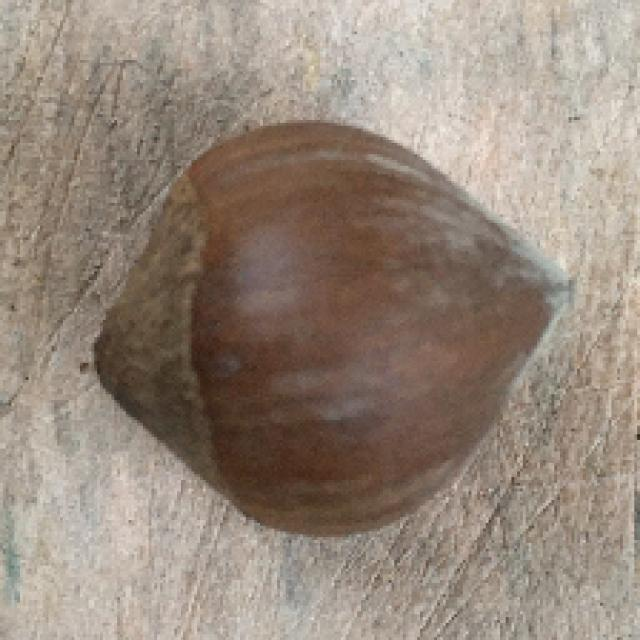damagedHazelnut: (88, 116, 580, 541)
